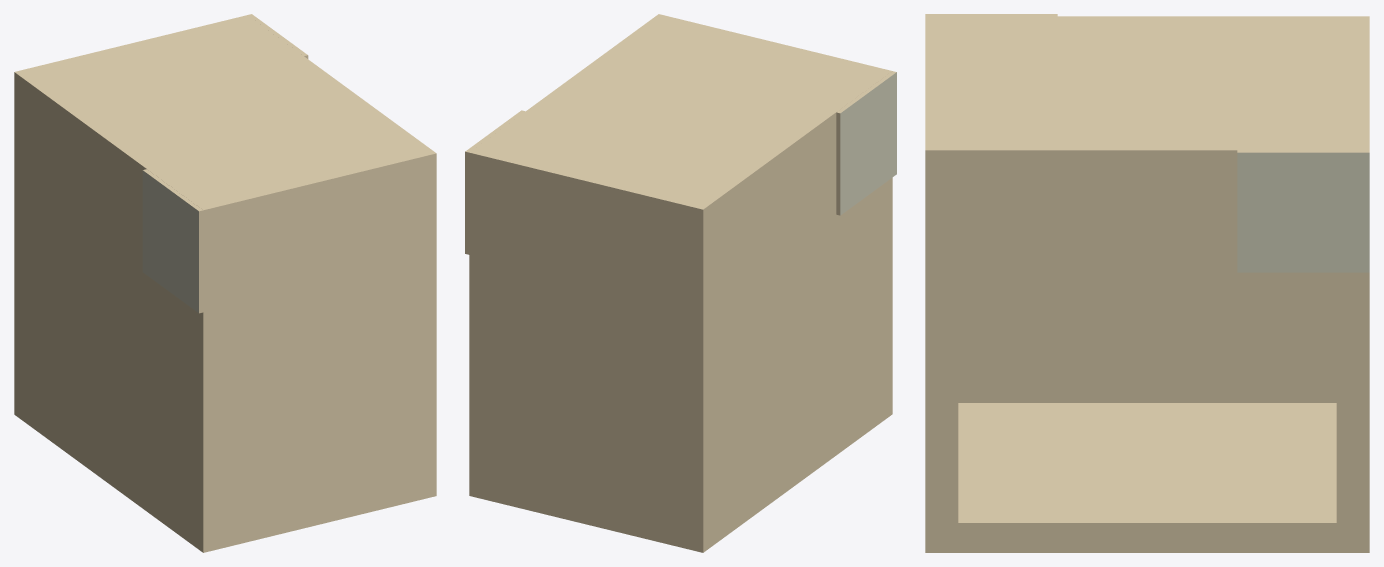
Rendered from dt_box_back.dae.
3 renders of one model, left to right at view 1: azimuth 30°, elevation 25°; view 2: azimuth 150°, elevation 25°; view 3: azimuth 270°, elevation 25°, orthographic. The views are drawn at different scales.
Parts seen in each view (by area): view 1: case11.012; view 2: case11.012; view 3: case11.012.
Boxes of the visible parts, <box> form: case11.012: <box>14,14,436,552</box>; case11.012: <box>465,14,896,552</box>; case11.012: <box>925,14,1369,552</box>.
Bounding box in the file's own units: 0.1736 × 0.235 × 0.235.
